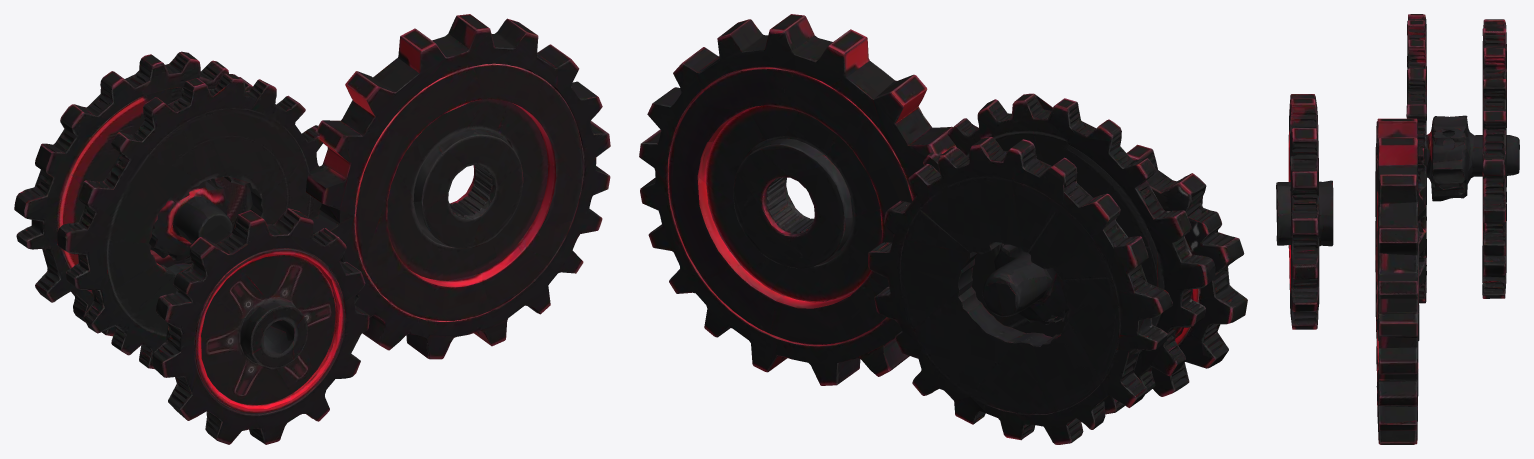
File: gears.glb
3 views of the same model, side by side, from view 1: azimuth 30°, elevation 25°; view 2: azimuth 150°, elevation 25°; view 3: azimuth 270°, elevation 25° (orthographic). The views are drawn at different scales.
Bounding box in the file's own units: 1.9 × 1.1 × 0.8163.
1 material, 1 textured.
